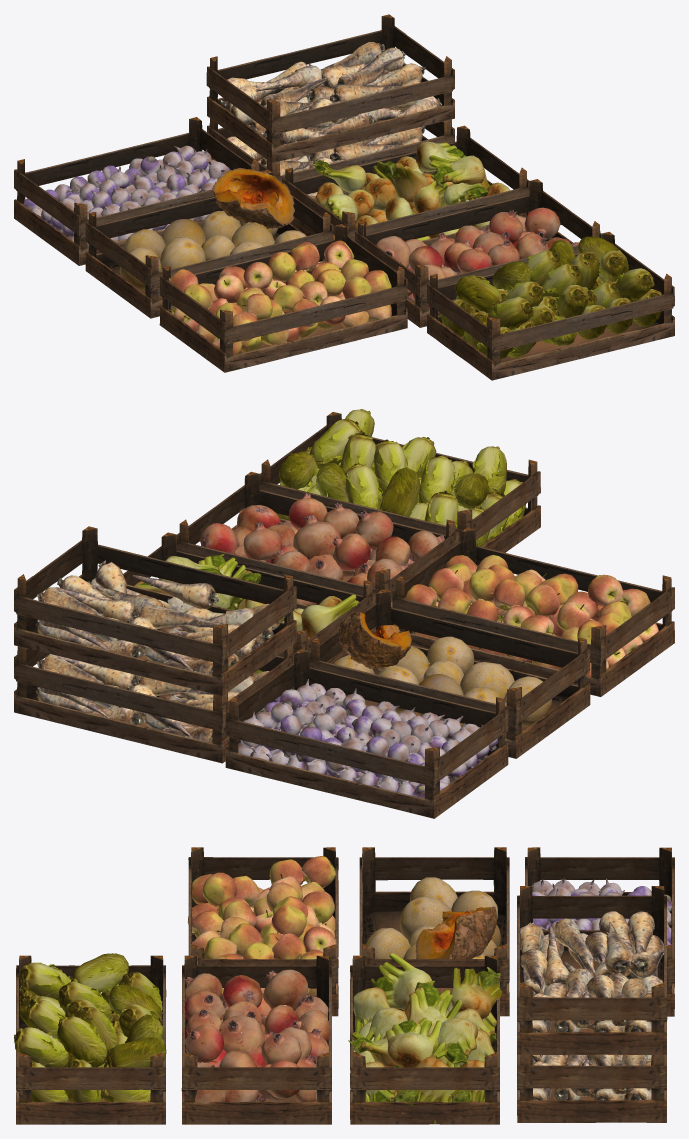
Rendered from fruit_veg_market.glb.
3 views of the same model, one above another, from view 1: azimuth 30°, elevation 25°; view 2: azimuth 150°, elevation 25°; view 3: azimuth 270°, elevation 25° (orthographic). The views are drawn at different scales.
Visible parts, largest first — view 1: Object_9, Object_6, Object_7, Object_5, Object_8, Object_4, Object_3; view 2: Object_9, Object_8, Object_7, Object_6, Object_5, Object_3, Object_4; view 3: Object_9, Object_6, Object_4, Object_3, Object_7, Object_5, Object_8.
Boxes of the visible parts, <box> form: Object_9: <box>206,14,454,200</box>; Object_6: <box>427,231,674,380</box>; Object_7: <box>159,224,407,372</box>; Object_5: <box>85,168,333,318</box>; Object_8: <box>14,117,259,265</box>; Object_4: <box>282,125,529,246</box>; Object_3: <box>355,179,601,327</box>; Object_9: <box>14,526,296,763</box>; Object_8: <box>225,649,508,818</box>; Object_7: <box>392,527,674,696</box>; Object_6: <box>259,409,540,566</box>; Object_5: <box>309,589,590,758</box>; Object_3: <box>176,471,458,631</box>; Object_4: <box>123,532,375,687</box>; Object_9: <box>517,886,667,1122</box>; Object_6: <box>14,953,166,1124</box>; Object_4: <box>348,953,502,1124</box>; Object_3: <box>181,955,331,1124</box>; Object_7: <box>187,847,338,1016</box>; Object_5: <box>359,847,509,1016</box>; Object_8: <box>525,847,674,1016</box>.
Bounding box in the file's own units: 212 × 63.56 × 280.
7 materials, 7 textured.
